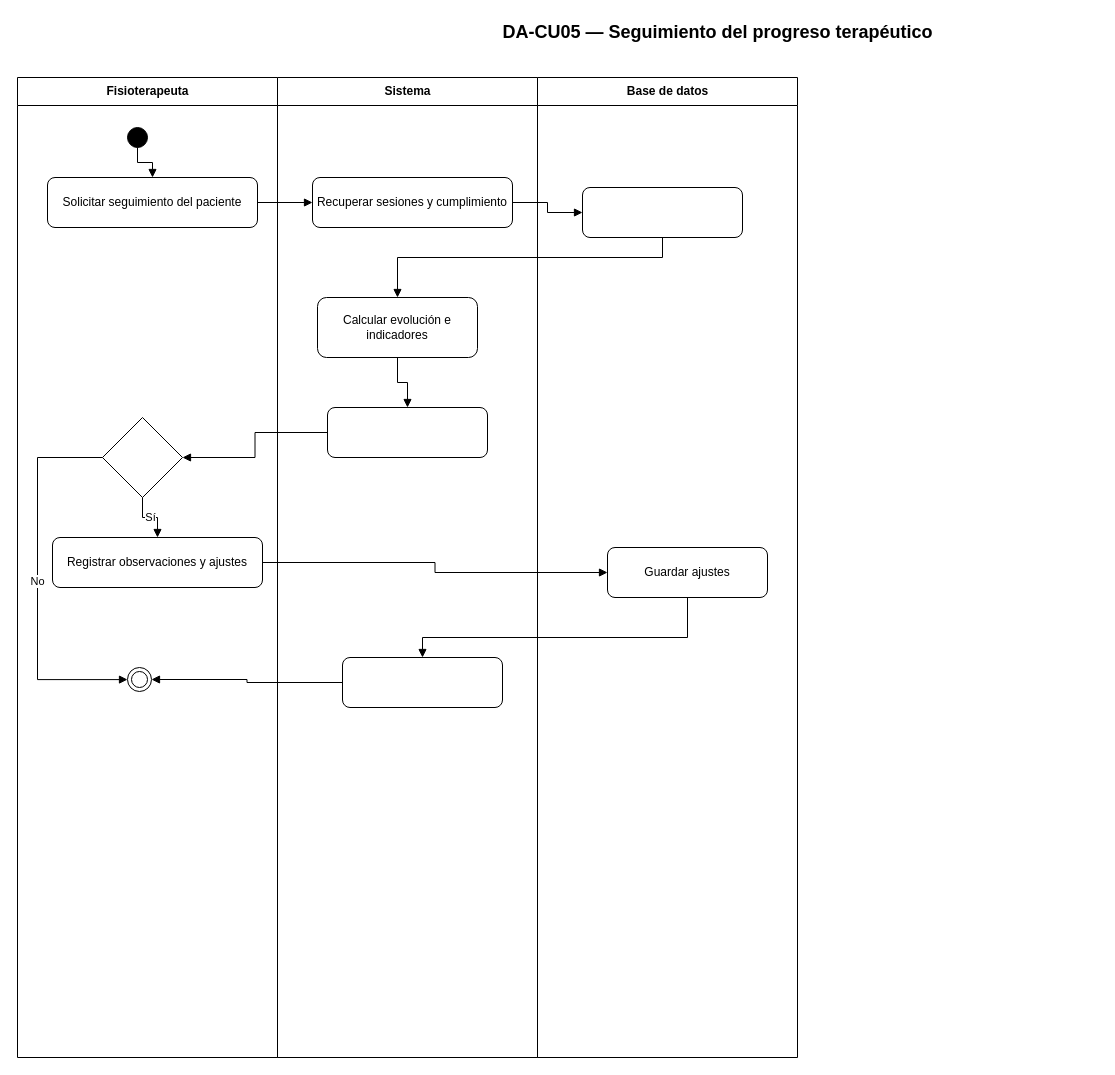
Image size: 1115x1075. Some labels were removed from this diagram. Here are the shapes that lost their labels. From the top down, the centre of each, then its label:
point (662, 212): Consultar histórico clínico
point (407, 432): Mostrar panel de progreso
point (142, 457): ¿Ajustar seguimiento?
point (422, 682): Actualizar panel
